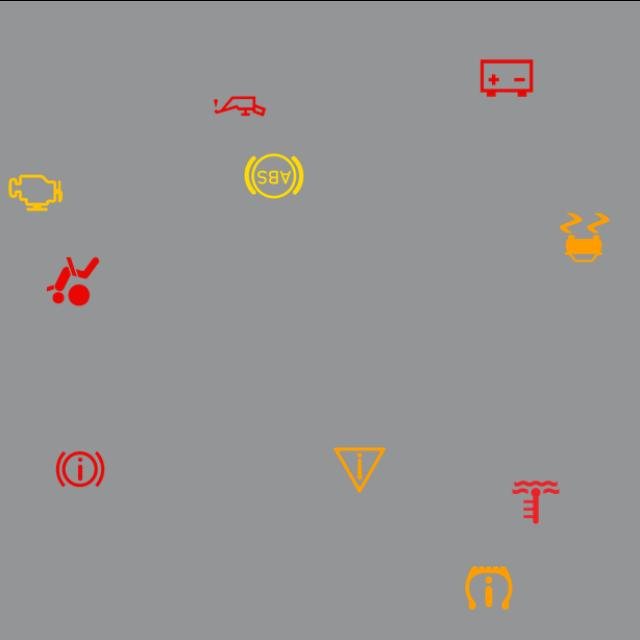Anti Lock Braking System: (242, 143, 306, 207)
Braking System Issue: (49, 436, 112, 500)
Charging System Issue: (474, 45, 538, 109)
Check Engine: (3, 160, 68, 224)
Electronic Stability Problem -ESP-: (553, 204, 617, 268)
Engine Overheating Warning Light: (504, 469, 568, 534)
Low Engine Oil Warning Light: (208, 74, 272, 138)
Low Tire Pressure Warning Light: (457, 555, 521, 619)
Master warning light: (328, 437, 392, 501)
SRS-Airbag: (41, 248, 105, 312)
